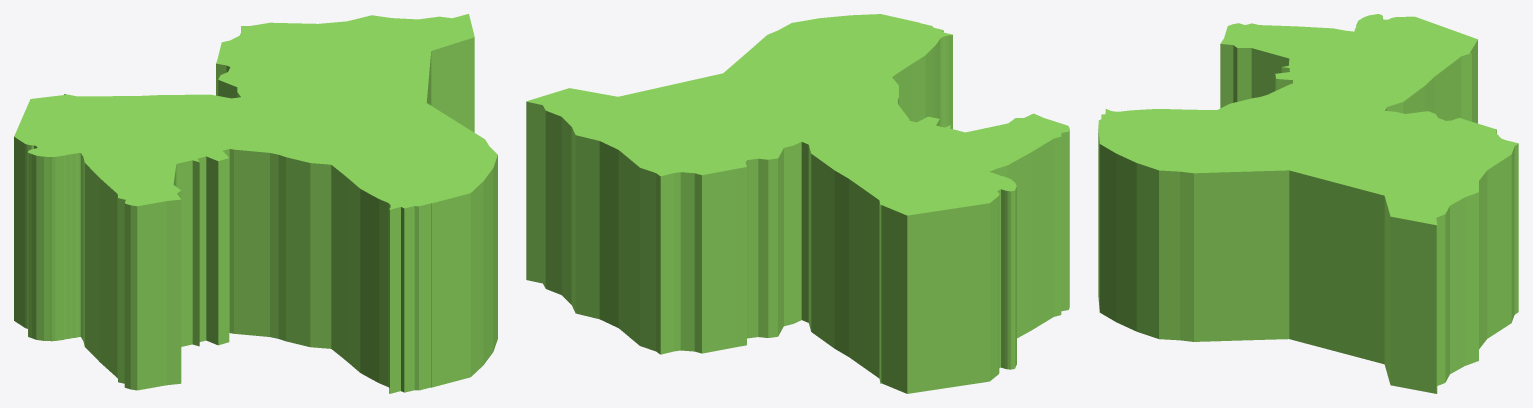
Rendered from old bridge.glb.
The picture shows the model from 3 angles, left to right: view 1: azimuth 30°, elevation 25°; view 2: azimuth 150°, elevation 25°; view 3: azimuth 270°, elevation 25°; orthographic projection. The views are drawn at different scales.
Visible parts, largest first — view 1: Plane; view 2: Plane; view 3: Plane.
Part boxes in pixels (<box>): Plane: <box>14,14,497,393</box>; Plane: <box>526,14,1069,393</box>; Plane: <box>1098,14,1518,393</box>.
Size of the model in its own units: 1.07 by 0.3993 by 0.9019.
